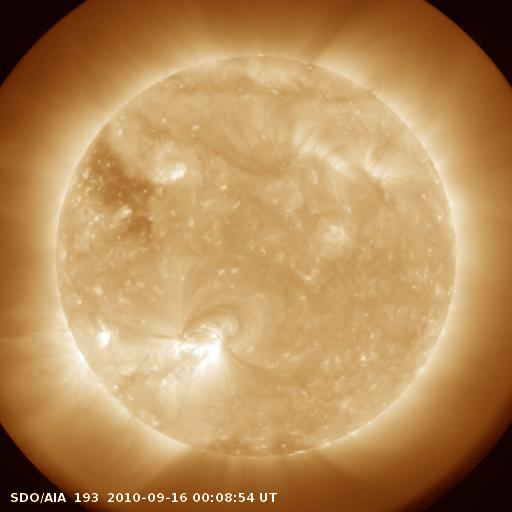coronal_hole: (68, 124, 160, 233)
